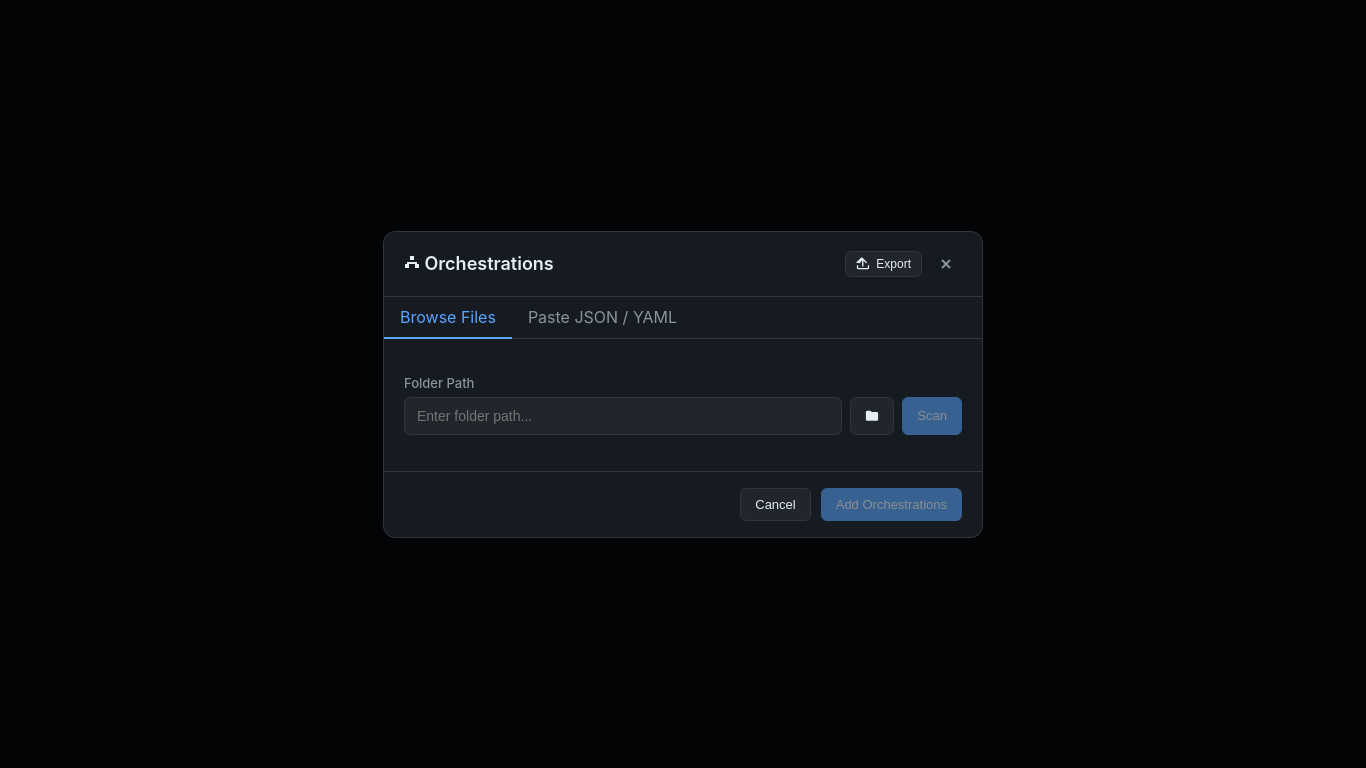
Test: workflow import › previews YAML with the backend parser and retains partial-import errors
Type "/work" into the field labelled "Folder Path" at (623, 416), box left=404, top=396, right=842, bottom=434
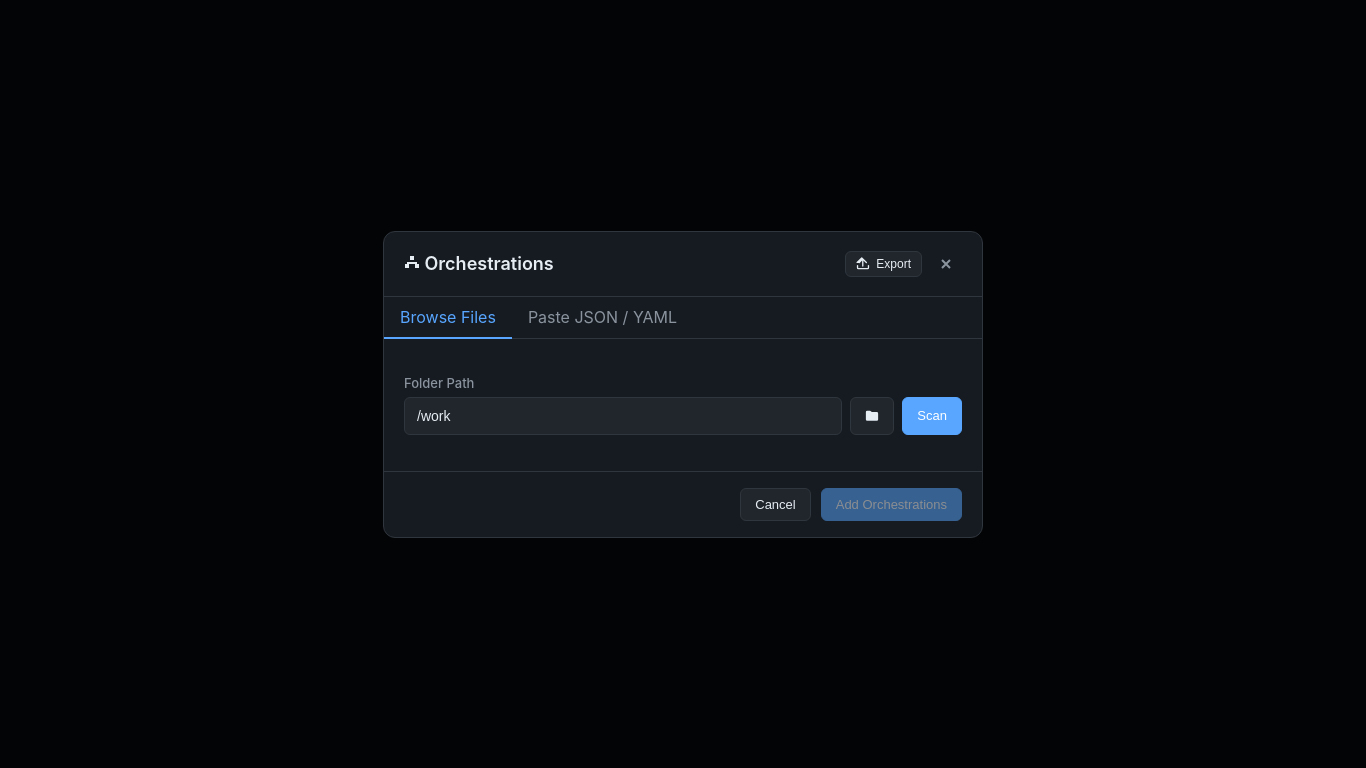
Click the button "Scan" at (932, 416), box left=902, top=396, right=962, bottom=434
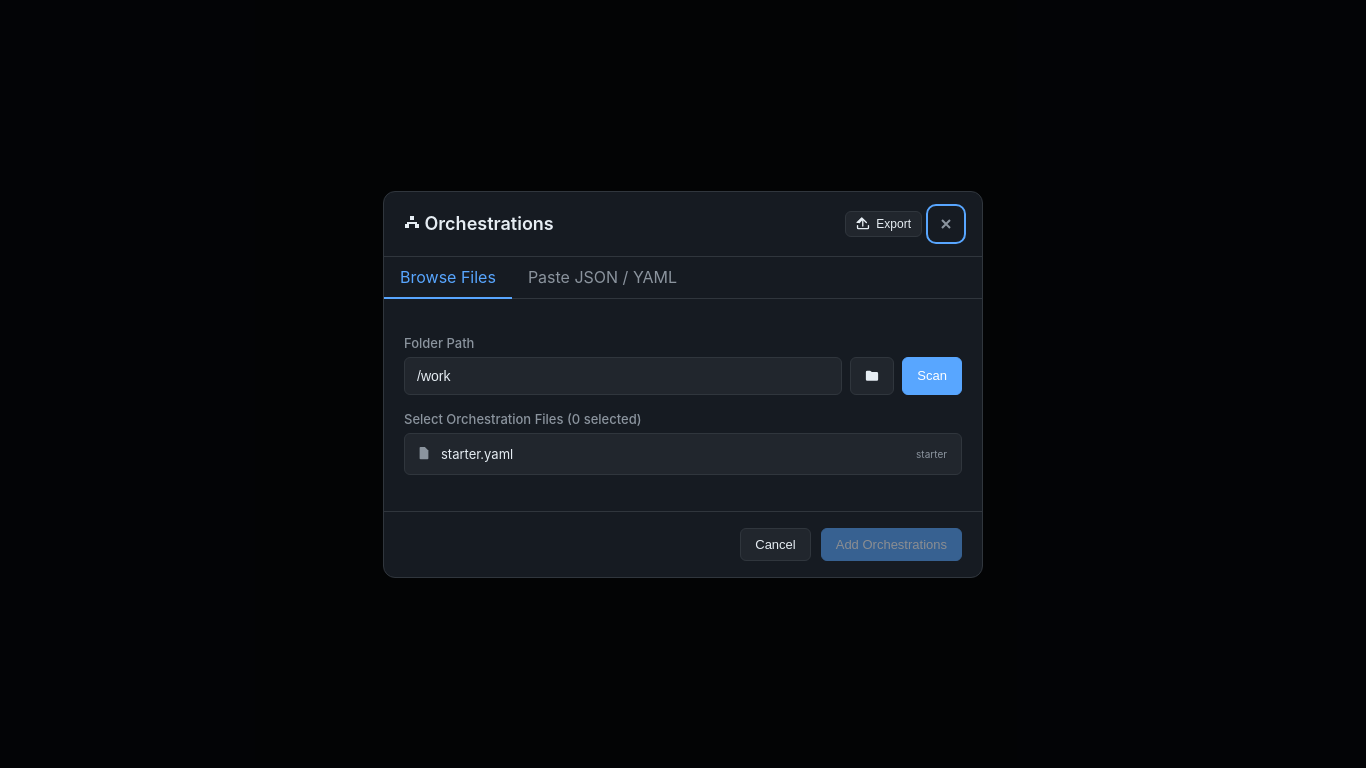
Click the checkbox labelled "starter.yaml starter" at (477, 454), box left=417, top=446, right=947, bottom=462
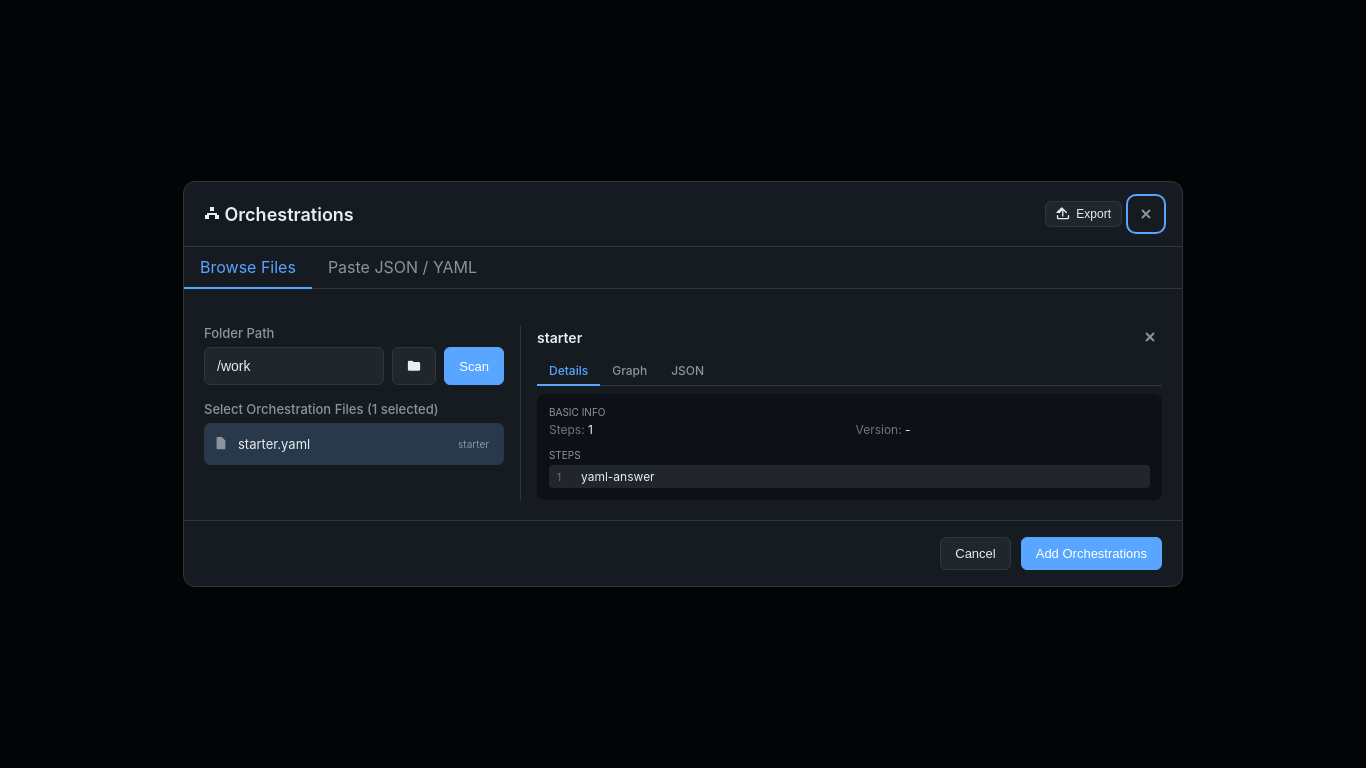
Check: the text "yaml-answer" is shown, box left=581, top=469, right=655, bottom=484
Click the button "Add Orchestrations" at (1091, 554), box left=1021, top=537, right=1162, bottom=570
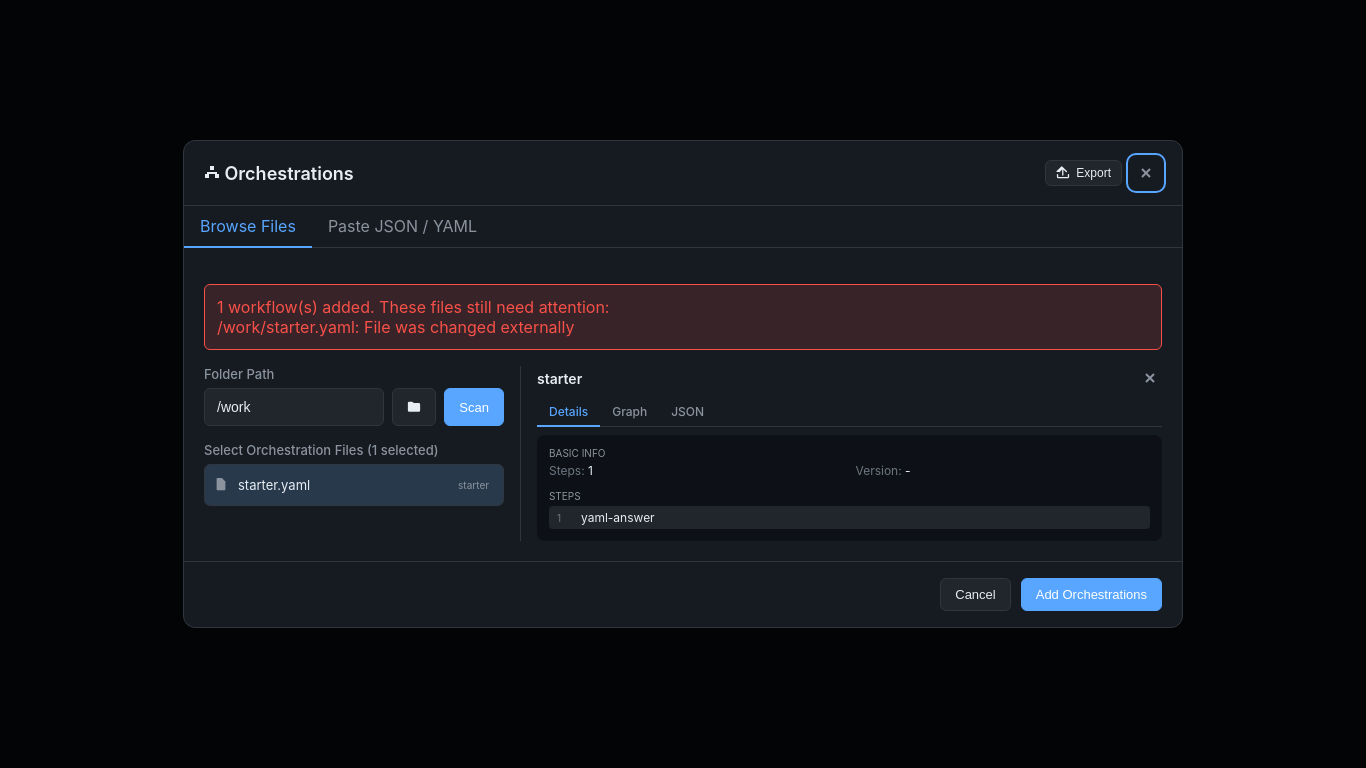
Check: the message shows "File was changed externally", box left=217, top=297, right=610, bottom=337
